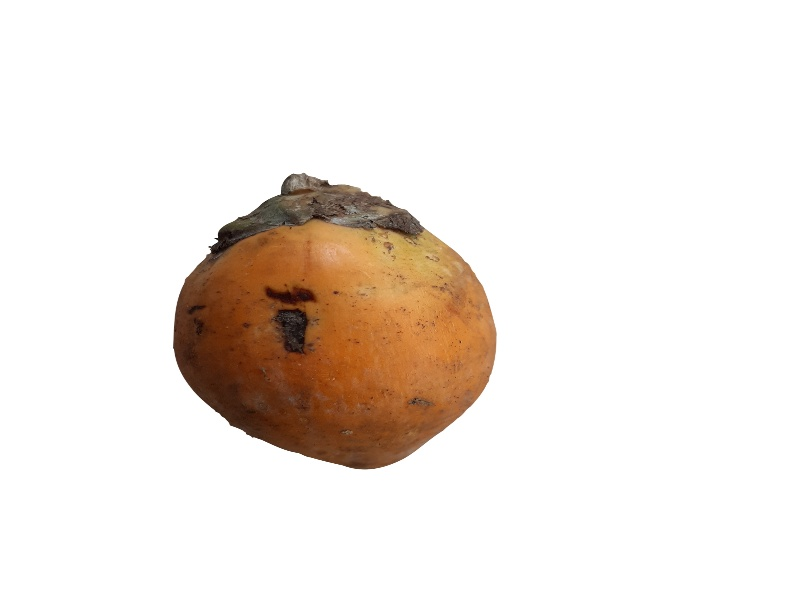arecanut: (168, 164, 505, 474)
